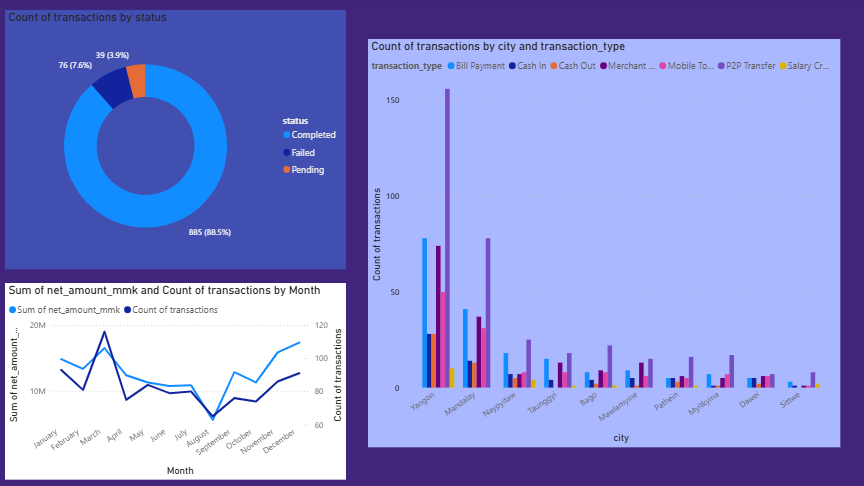

The page's visual inventory and layout, read from the dashboard file:
{"tool":"powerbi","page":{"name":"Page 3","canvas":[1280,720],"ordinal":2},"visuals":[{"type":"donutChart","fields":{"Category":["myanmar_mobile_money_transactions.status"],"Y":["CountNonNull(myanmar_mobile_money_transactions.transactions)"]},"box":[14.7,17.6,501.1,380.6],"z":1000},{"type":"clusteredColumnChart","fields":{"Category":["myanmar_mobile_money_transactions.city"],"Y":["CountNonNull(myanmar_mobile_money_transactions.transactions)"],"Series":["myanmar_mobile_money_transactions.transaction_type"]},"box":[548.1,60.2,693.6,599.5],"z":2000},{"type":"lineChart","fields":{"Category":["myanmar_mobile_money_transactions.date.Variation.Date Hierarchy.Month"],"Y":["Sum(myanmar_mobile_money_transactions.net_amount_mmk)"],"Y2":["CountNonNull(myanmar_mobile_money_transactions.transactions)"]},"box":[14.7,418.8,501.1,289.5],"z":2001}]}

Visuals, with their boxes in screenshot pixels (x1, y1, x2, y2), scaled from the page's 1280x720 canvas onto the 864x486 screenshot:
donutChart - myanmar_mobile_money_transactions.status x CountNonNull(myanmar_mobile_money_transactions.transactions): region(10, 12, 348, 269)
clusteredColumnChart - myanmar_mobile_money_transactions.city x CountNonNull(myanmar_mobile_money_transactions.transactions): region(370, 41, 838, 445)
lineChart - myanmar_mobile_money_transactions.date.Variation.Date Hierarchy.Month x Sum(myanmar_mobile_money_transactions.net_amount_mmk): region(10, 283, 348, 478)
